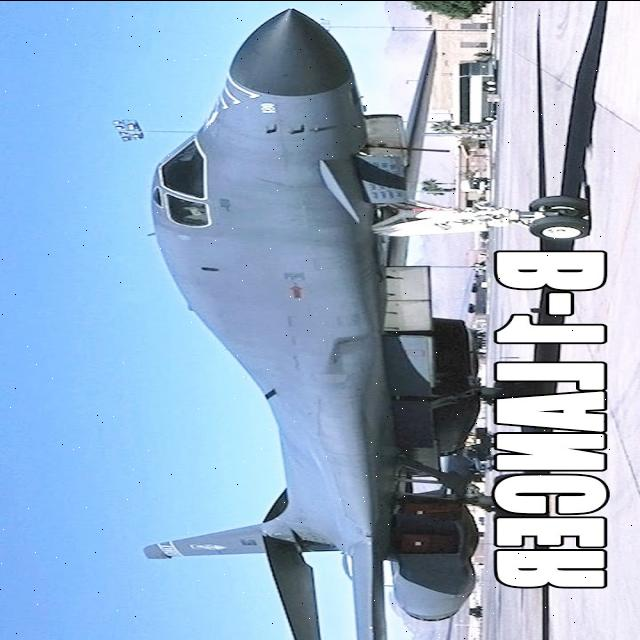B1: (87, 2, 599, 640)
